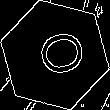O_W: (25, 28, 85, 82)
